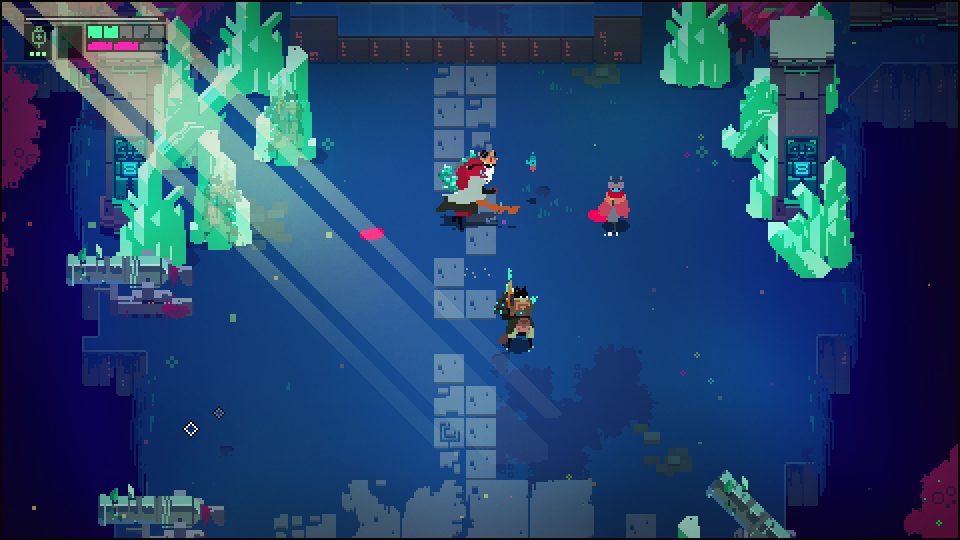hanged_man: (439, 147, 513, 221)
player: (592, 173, 631, 239)
